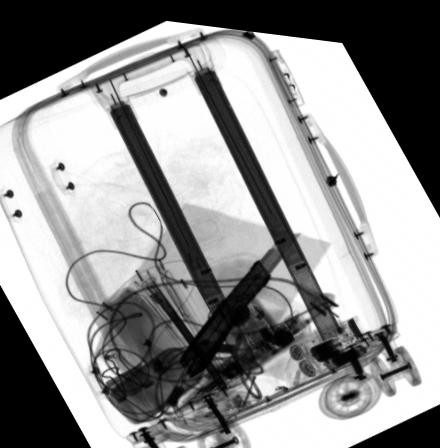Knife: (178, 225, 301, 373)
